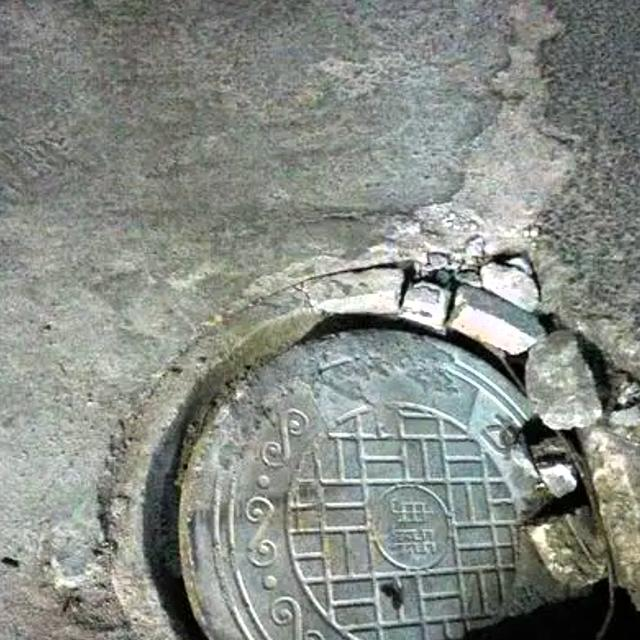circle: (80, 261, 640, 640)
